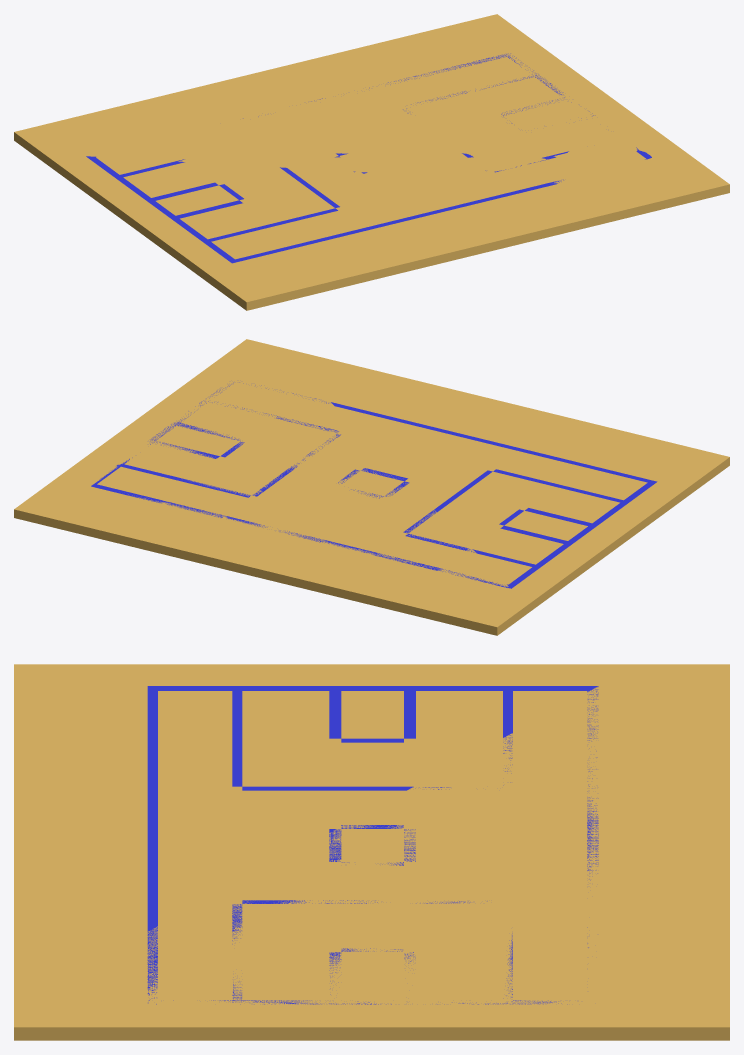
File: betterCourt3.fbx
3 renders of one model, top to bottom at view 1: azimuth 30°, elevation 25°; view 2: azimuth 150°, elevation 25°; view 3: azimuth 270°, elevation 25°, orthographic. The views are drawn at different scales.
Parts seen in each view (by area): view 1: Cube; view 2: Cube; view 3: Cube.
Part boxes in pixels (box(x1,y1,x2,y2)): Cube: box(14, 14, 729, 310); Cube: box(14, 339, 729, 635); Cube: box(14, 664, 729, 1040).
Bounding box in the file's own units: 11755 × 200 × 9803.
